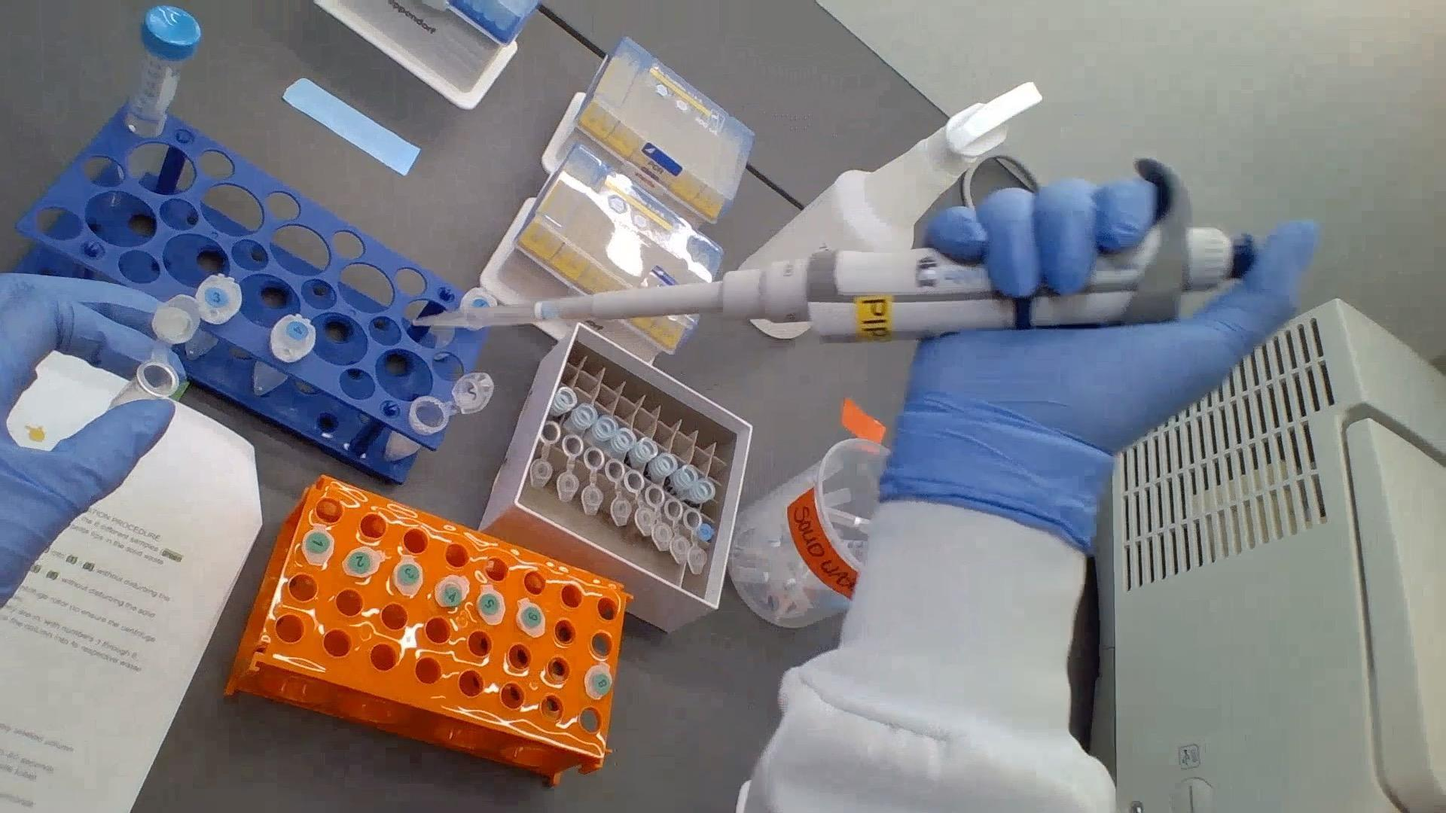pipette: (415, 160, 1252, 340)
